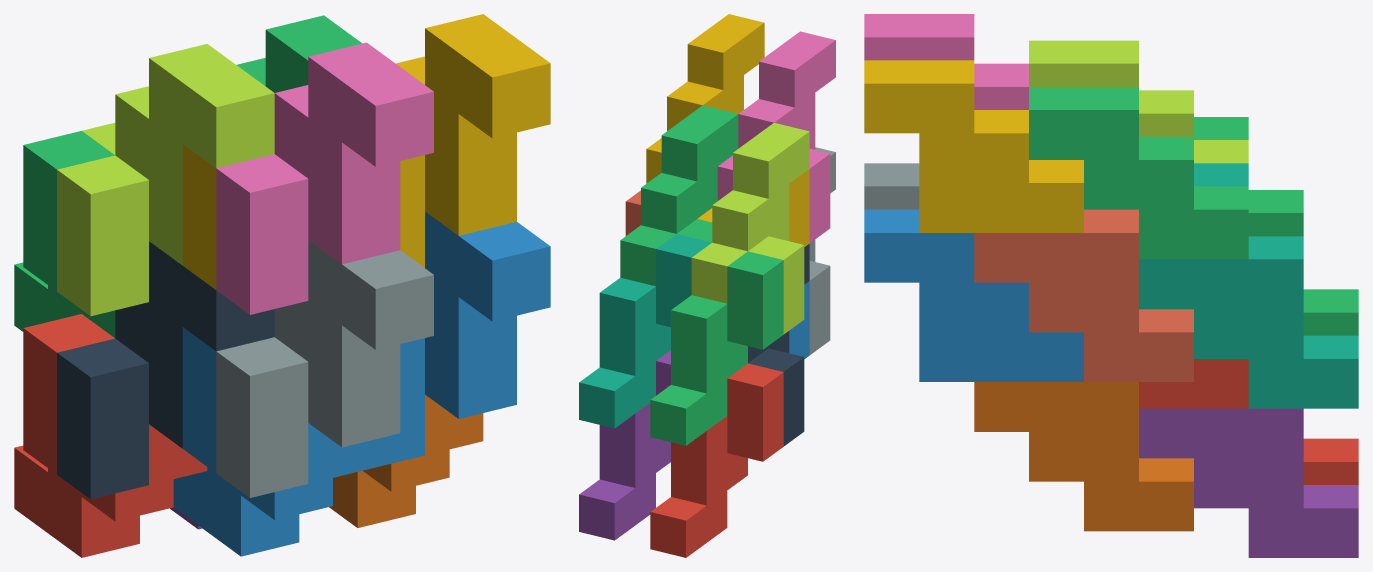
Rendered from tiling.obj.
3 renders of one model, left to right at view 1: azimuth 30°, elevation 25°; view 2: azimuth 150°, elevation 25°; view 3: azimuth 270°, elevation 25°, orthographic. The views are drawn at different scales.
Parts seen in each view (by area): view 1: copy_2_domain_4, copy_2_domain_2, copy_2_domain_3, copy_2_domain_1, copy_2_domain_8, copy_2_domain_6, copy_1_domain_1, copy_1_domain_2, copy_1_domain_3, copy_1_domain_6, copy_2_domain_7, copy_1_domain_4; view 2: copy_1_domain_3, copy_1_domain_1, copy_2_domain_3, copy_1_domain_7, copy_2_domain_7, copy_2_domain_4, copy_1_domain_5, copy_2_domain_8, copy_2_domain_1, copy_2_domain_2, copy_1_domain_4, copy_1_domain_2 (+1 smaller); view 3: copy_2_domain_8, copy_1_domain_7, copy_1_domain_8, copy_2_domain_7, copy_1_domain_5, copy_2_domain_6, copy_1_domain_6, copy_2_domain_3, copy_2_domain_4, copy_1_domain_3, copy_2_domain_5, copy_2_domain_2 (+1 smaller).
Part boxes in pixels (x1,y1,x2,y2): copy_2_domain_4: (216,42,433,314); copy_2_domain_2: (216,240,433,497); copy_2_domain_3: (57,44,274,316); copy_2_domain_1: (57,241,274,499); copy_2_domain_8: (396,14,550,267); copy_2_domain_6: (366,211,550,469); copy_1_domain_1: (14,314,207,557); copy_1_domain_2: (173,327,366,556); copy_1_domain_3: (14,131,115,337); copy_1_domain_6: (329,394,483,527); copy_2_domain_7: (237,15,361,92); copy_1_domain_4: (182,144,216,289); copy_1_domain_3: (650,251,783,445); copy_1_domain_1: (650,363,783,557); copy_2_domain_3: (691,122,809,334); copy_1_domain_7: (579,234,711,428); copy_2_domain_7: (620,105,738,286); copy_2_domain_4: (717,31,835,242); copy_1_domain_5: (579,350,670,540); copy_2_domain_8: (646,14,764,183); copy_2_domain_1: (748,244,809,446); copy_2_domain_2: (809,147,835,354); copy_1_domain_4: (697,169,809,246); copy_1_domain_2: (789,281,809,358); copy_2_domain_8: (864,60,1083,232); copy_1_domain_7: (1139,163,1358,408); copy_1_domain_8: (974,209,1193,381); copy_2_domain_7: (1029,87,1248,259); copy_1_domain_5: (1139,408,1358,557); copy_2_domain_6: (864,209,1083,381); copy_1_domain_6: (974,382,1193,531); copy_2_domain_3: (1029,40,1248,163); copy_2_domain_4: (864,14,1028,109); copy_1_domain_3: (1194,117,1358,335); copy_2_domain_5: (1139,359,1248,408); copy_2_domain_2: (864,163,919,209).
Size of the model in its own units: 5 by 10 by 9.
